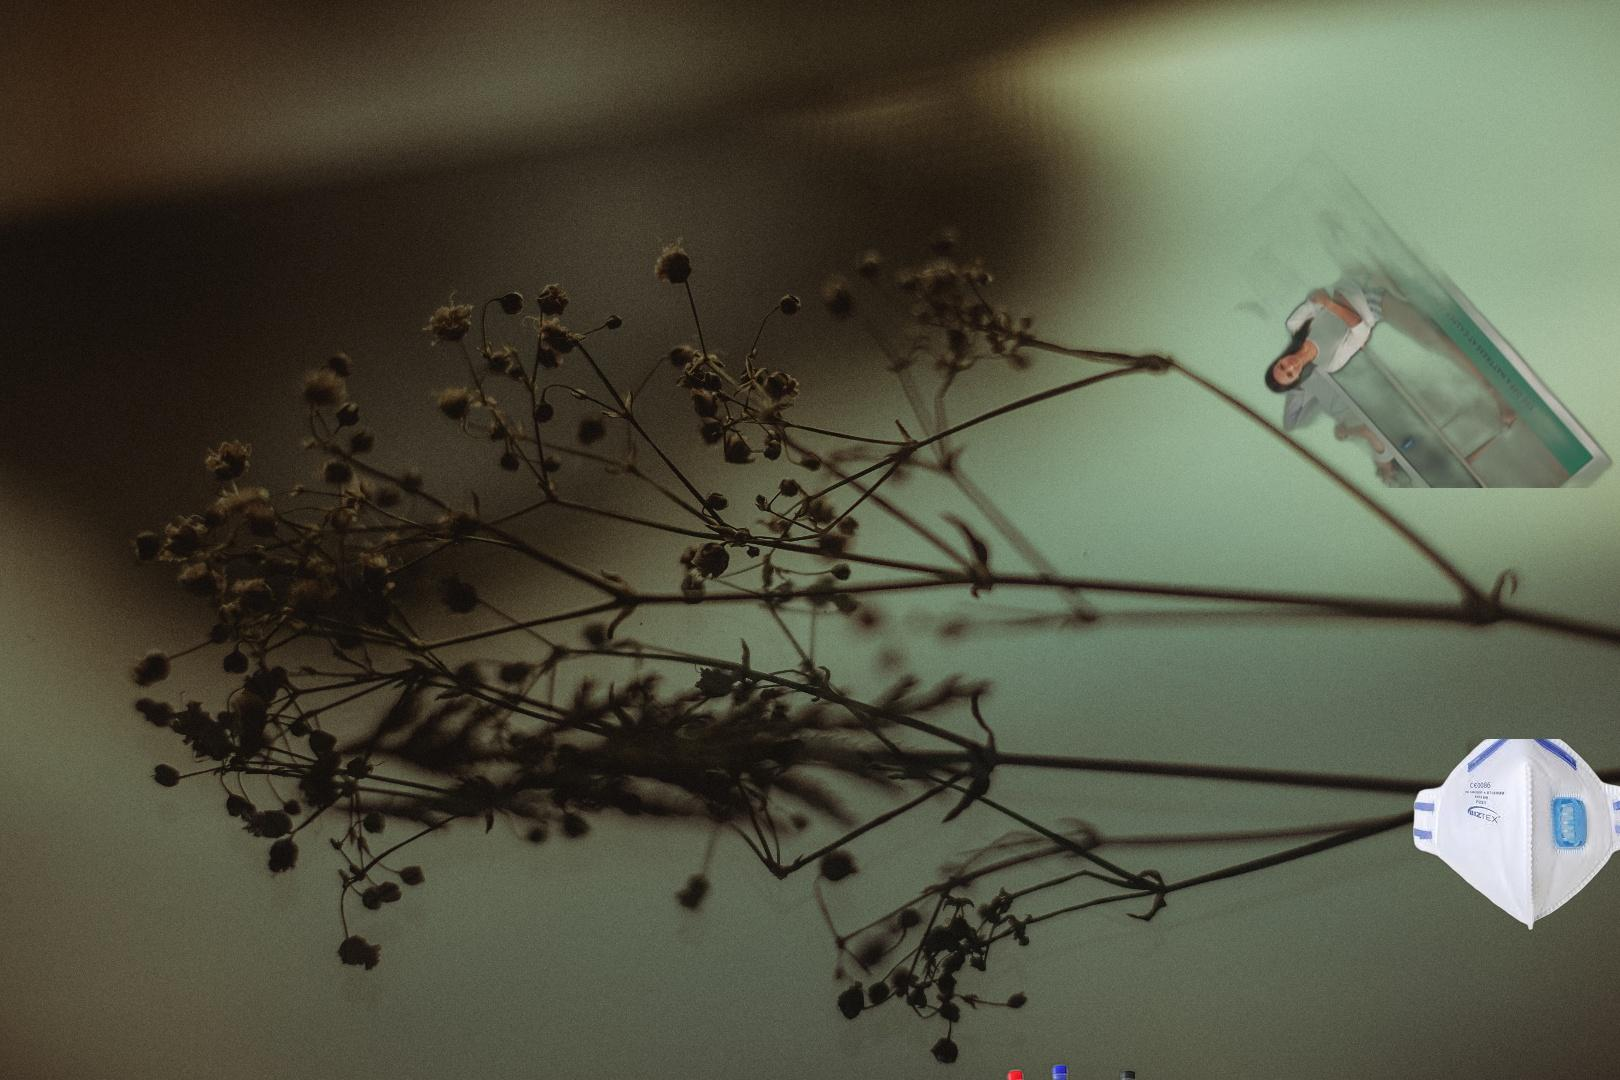paper: (1126, 143, 1620, 488)
penholder: (803, 1057, 1540, 1080)
trash: (1411, 739, 1620, 933)
